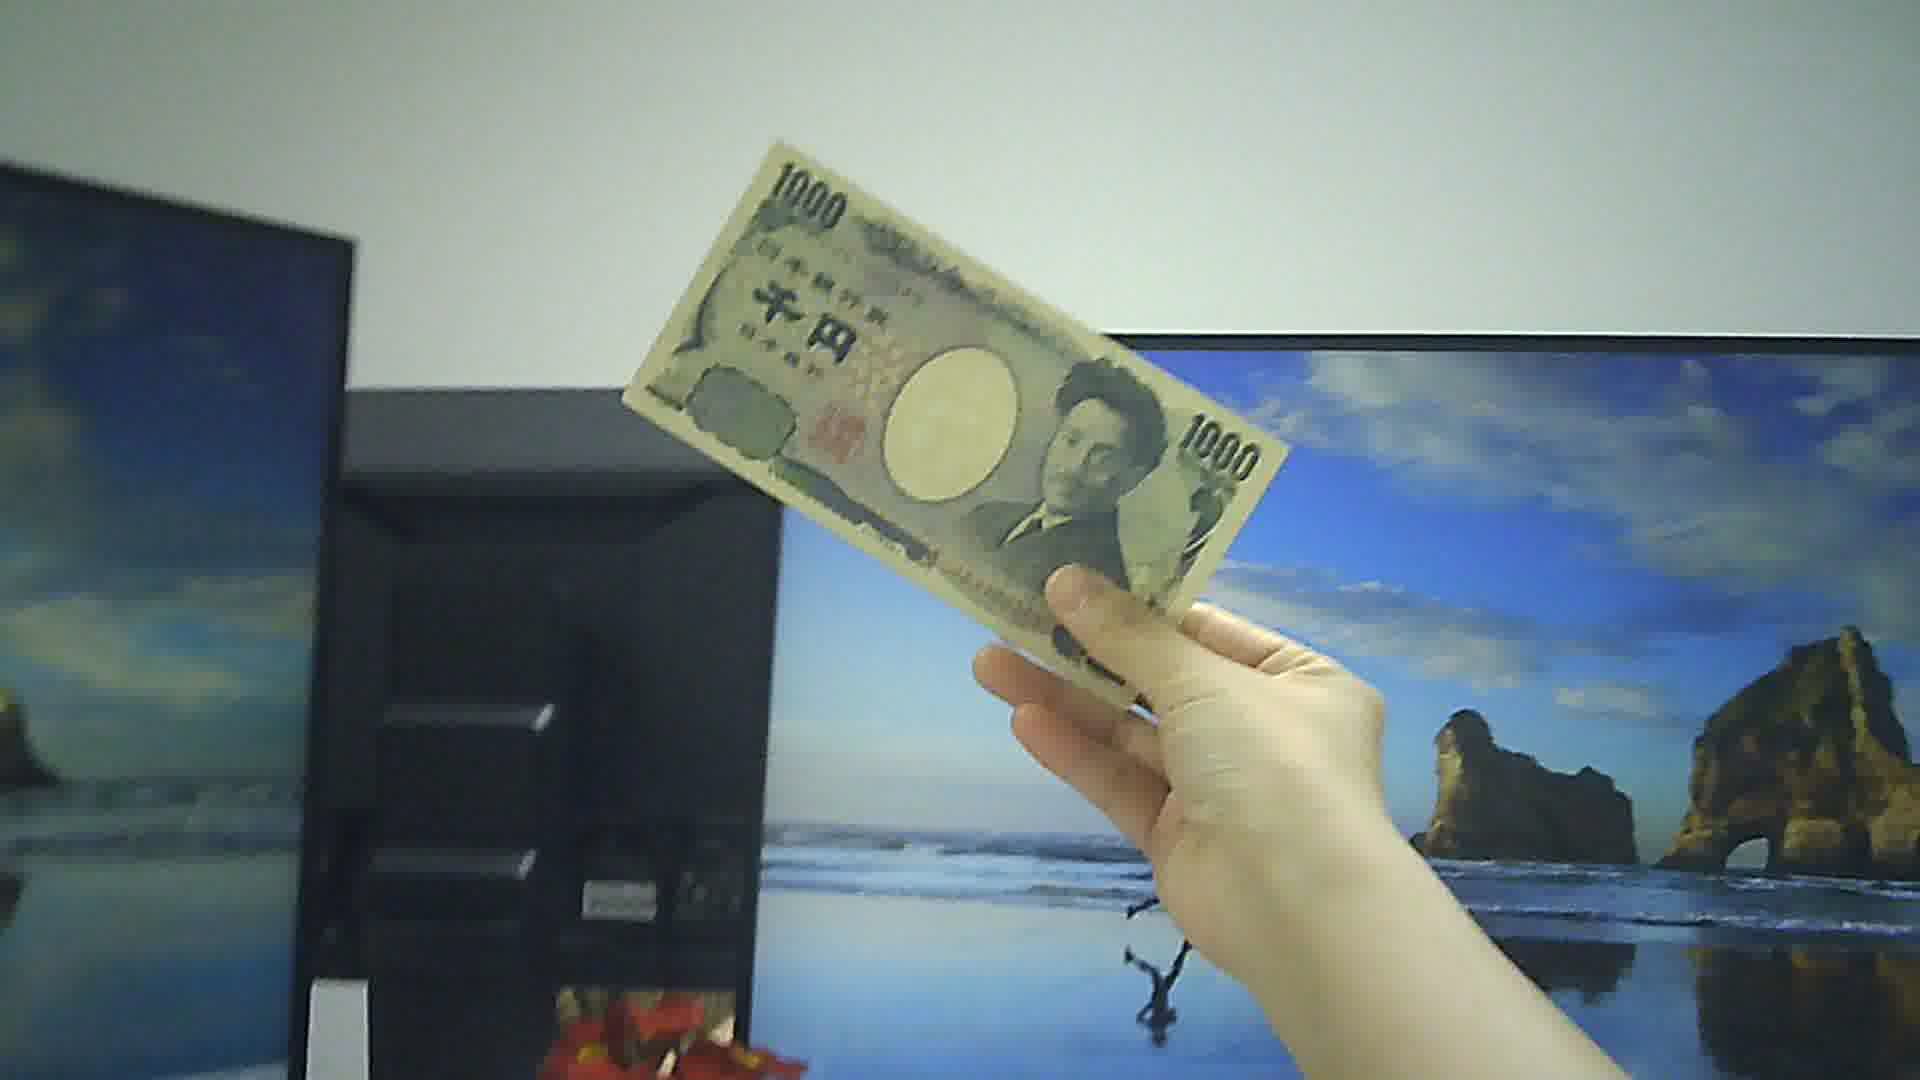1,000 Yen: (612, 119, 1286, 703)
